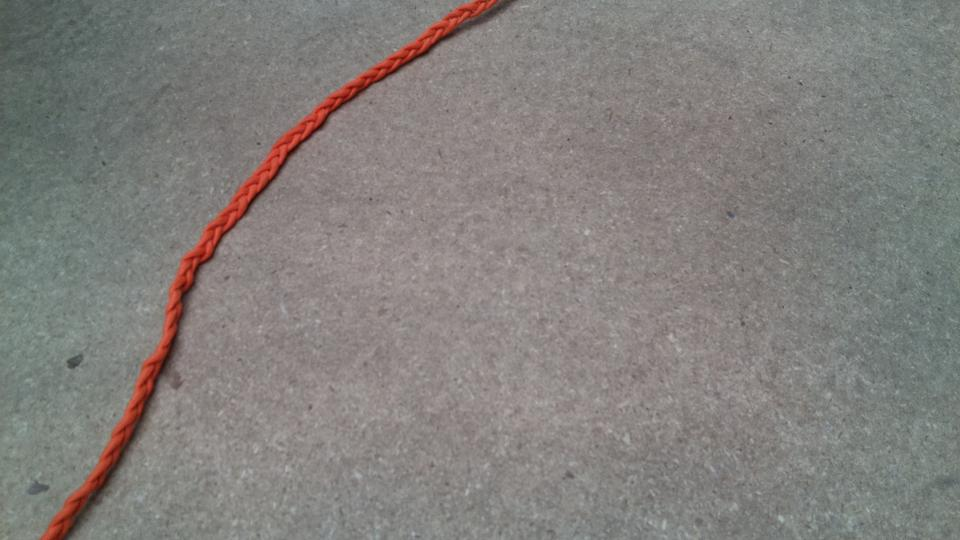rope: (53, 1, 486, 536)
